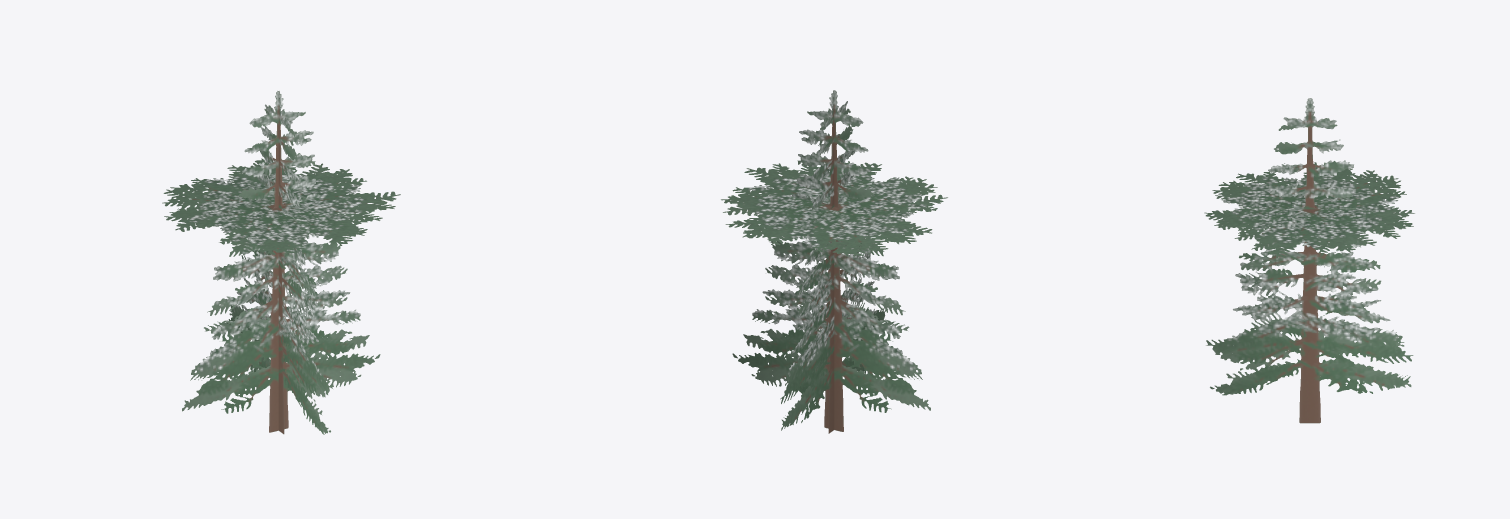
File: snow_pine_2_far.glb
The picture shows the model from 3 angles, left to right: view 1: azimuth 30°, elevation 25°; view 2: azimuth 150°, elevation 25°; view 3: azimuth 270°, elevation 25°; orthographic projection. The views are drawn at different scales.
Parts seen in each view (by area): view 1: snow_pine_2_far; view 2: snow_pine_2_far; view 3: snow_pine_2_far.
Boxes of the visible parts, <box> form: snow_pine_2_far: <box>162,91,400,434</box>; snow_pine_2_far: <box>721,90,947,433</box>; snow_pine_2_far: <box>1204,98,1414,423</box>.
Bounding box in the file's own units: 10.33 × 10.33 × 10.33.
Materials: 1 (1 with a texture image).
